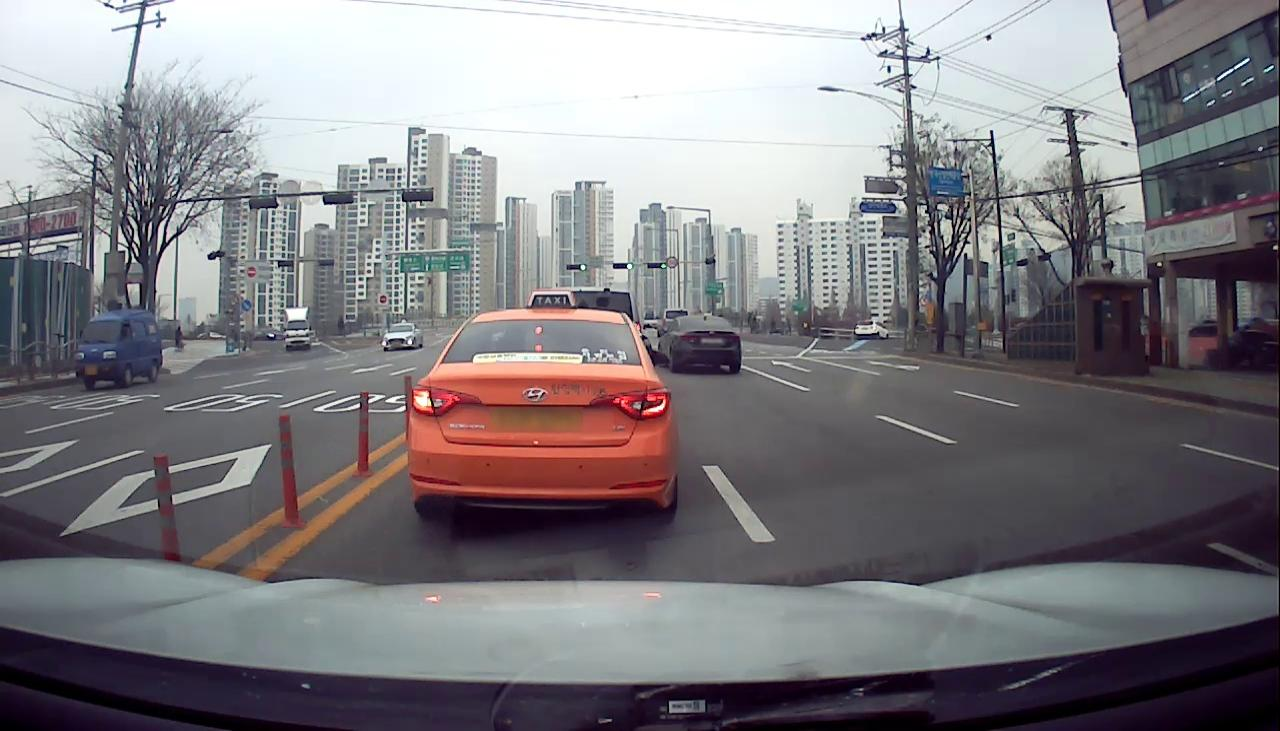Green Light: (579, 263, 587, 271), (626, 263, 634, 270), (660, 263, 667, 269)
